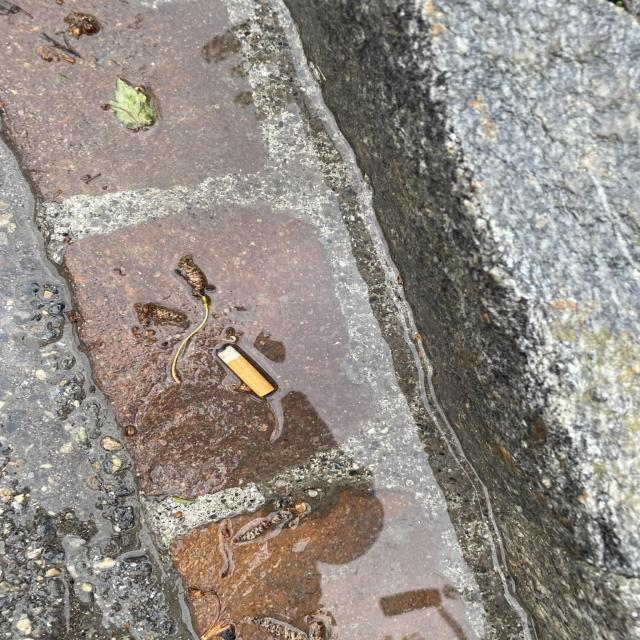other waste: (215, 342, 275, 397)
